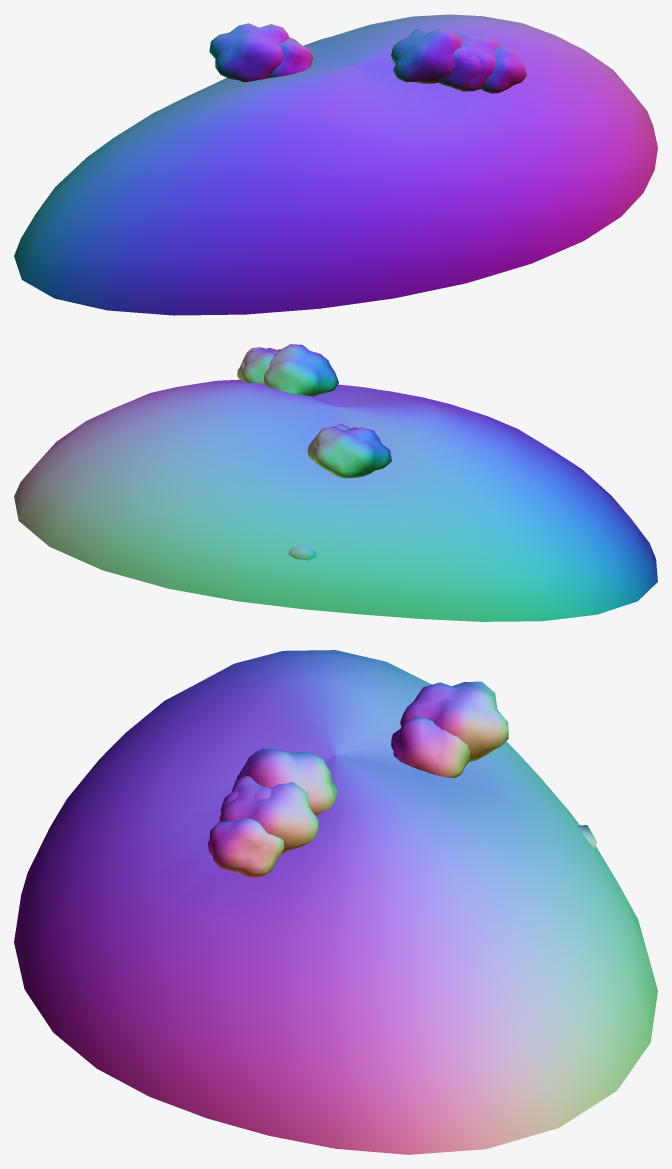
The model's file is SM_Terrain_Plains_SkirtHill_B.fbx.
3 views of the same model, one above another, from view 1: azimuth 30°, elevation 25°; view 2: azimuth 150°, elevation 25°; view 3: azimuth 270°, elevation 25° (orthographic). The views are drawn at different scales.
Visible parts, largest first — view 1: SM_Terrain_Plains_SkirtHill_B; view 2: SM_Terrain_Plains_SkirtHill_B; view 3: SM_Terrain_Plains_SkirtHill_B.
Boxes of the visible parts, <box> form: SM_Terrain_Plains_SkirtHill_B: <box>14,14,657,315</box>; SM_Terrain_Plains_SkirtHill_B: <box>14,344,657,621</box>; SM_Terrain_Plains_SkirtHill_B: <box>14,650,657,1154</box>.
Bounding box in the file's own units: 9.1 × 2.28 × 5.65.
